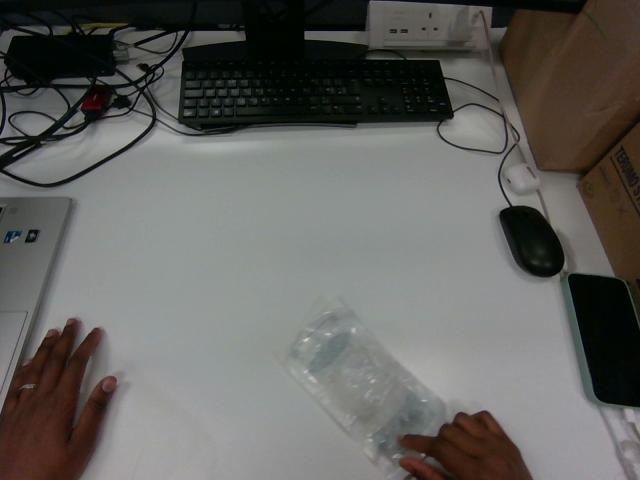gallipot: (283, 302, 444, 479)
